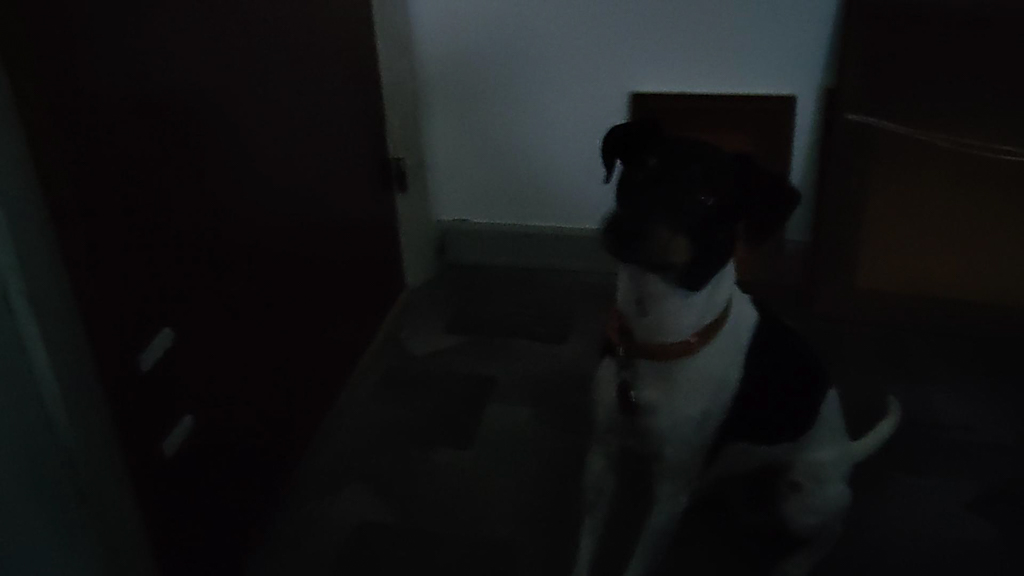Dog: (552, 103, 933, 576)
